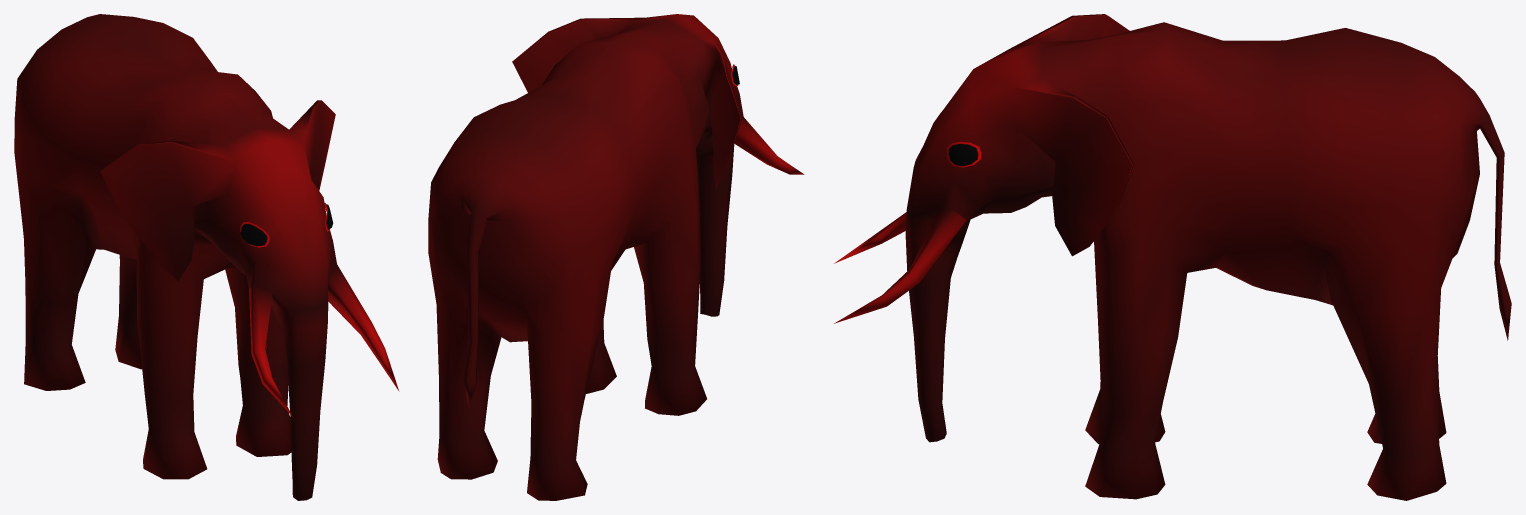
The model's file is Animals_Elephant.fbx.
3 views of the same model, side by side, from view 1: azimuth 30°, elevation 25°; view 2: azimuth 150°, elevation 25°; view 3: azimuth 270°, elevation 25° (orthographic). The views are drawn at different scales.
Visible parts, largest first — view 1: base; view 2: base; view 3: base.
Boxes of the visible parts, bbox=[...] form: base: bbox=[14, 14, 399, 500]; base: bbox=[428, 14, 804, 500]; base: bbox=[834, 14, 1511, 500].
Size of the model in its own units: 220 by 329 by 473.
